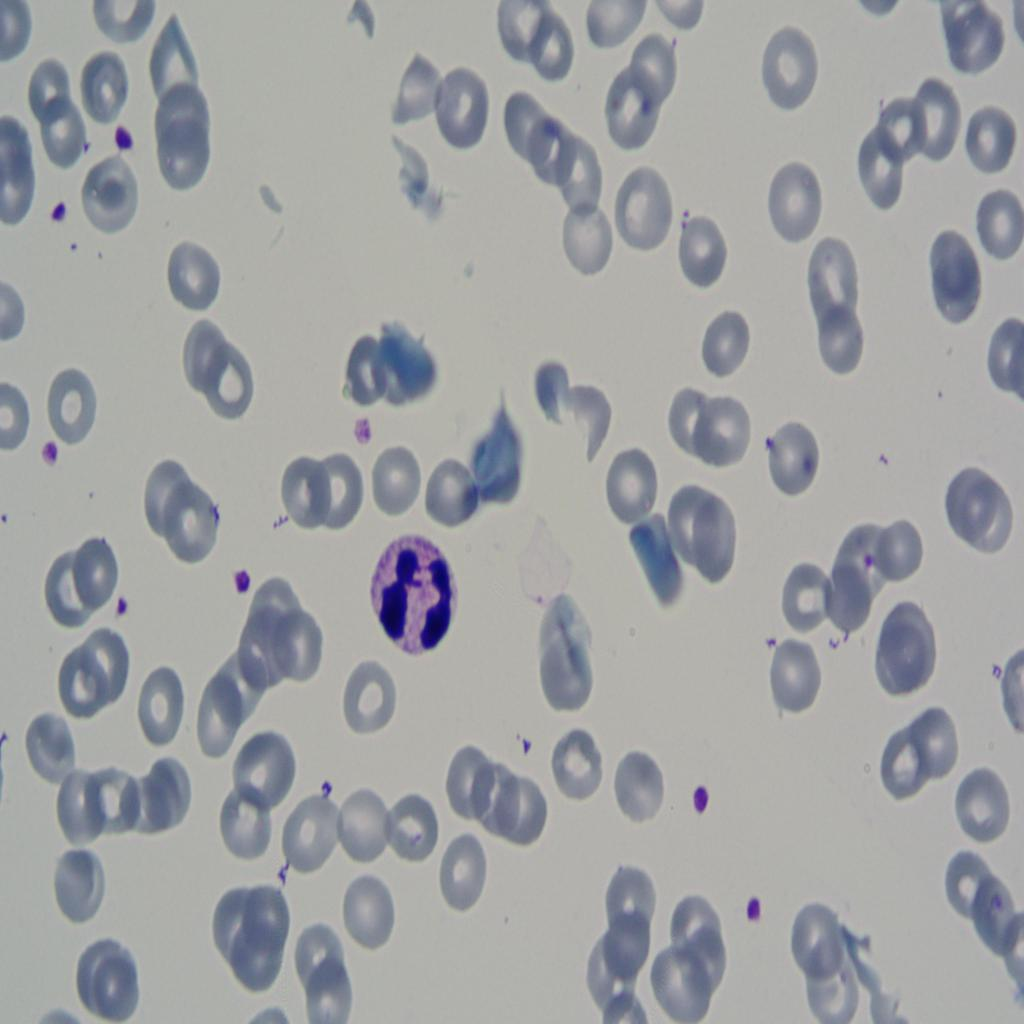Neutrofil: (370, 529, 460, 663)
Platelet: (687, 766, 717, 831), (106, 113, 140, 164), (42, 186, 71, 237), (346, 412, 374, 458), (738, 892, 765, 934), (232, 559, 255, 608), (110, 587, 138, 627), (313, 769, 341, 807), (44, 430, 68, 470), (860, 535, 878, 583), (757, 430, 780, 464)
